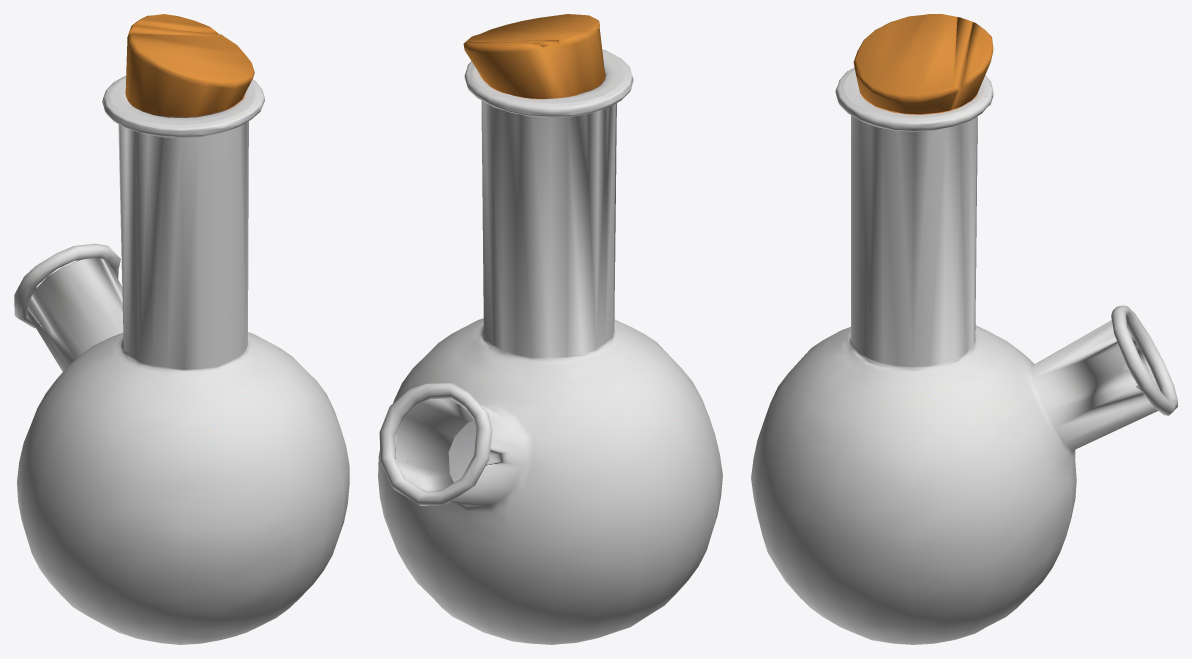
The model's file is round-bottomed_flask_with_two_necks_1778076222.glb.
3 views of the same model, side by side, from view 1: azimuth 30°, elevation 25°; view 2: azimuth 150°, elevation 25°; view 3: azimuth 270°, elevation 25° (orthographic). The views are drawn at different scales.
Visible parts, largest first — view 1: tripo_node_8bb2b8fa-706b-41cd-ae08-bd16902ce43f; view 2: tripo_node_8bb2b8fa-706b-41cd-ae08-bd16902ce43f; view 3: tripo_node_8bb2b8fa-706b-41cd-ae08-bd16902ce43f.
Boxes of the visible parts, <box> form: tripo_node_8bb2b8fa-706b-41cd-ae08-bd16902ce43f: <box>14,14,349,644</box>; tripo_node_8bb2b8fa-706b-41cd-ae08-bd16902ce43f: <box>378,14,722,644</box>; tripo_node_8bb2b8fa-706b-41cd-ae08-bd16902ce43f: <box>751,14,1177,644</box>.
Size of the model in its own units: 0.5176 by 0.998 by 0.6504.
Materials: 1 (1 with a texture image).
